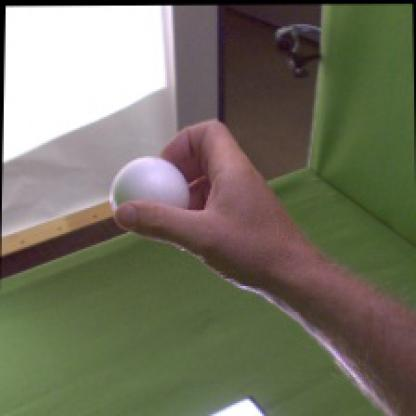Hand: (112, 117, 300, 291)
